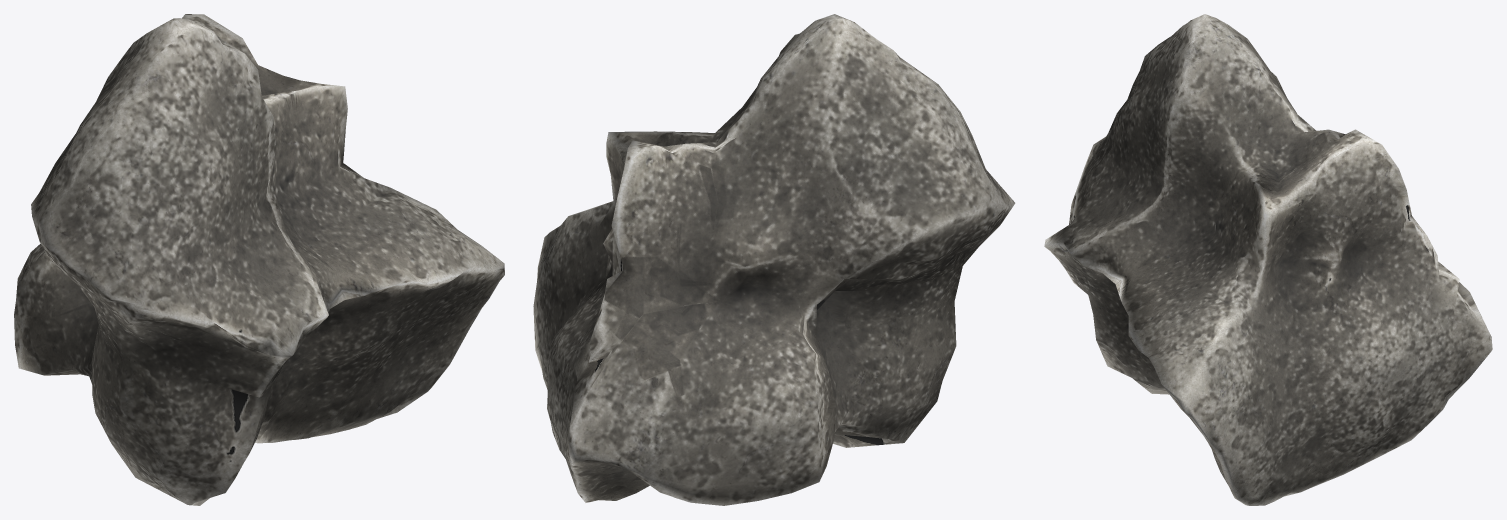
Rendered from rock2_LOD0.fbx.
The picture shows the model from 3 angles, left to right: view 1: azimuth 30°, elevation 25°; view 2: azimuth 150°, elevation 25°; view 3: azimuth 270°, elevation 25°; orthographic projection. The views are drawn at different scales.
Visible parts, largest first — view 1: rock2; view 2: rock2; view 3: rock2.
Boxes of the visible parts, <box> form: rock2: <box>14,14,504,505</box>; rock2: <box>533,14,1015,505</box>; rock2: <box>1044,14,1492,505</box>.
Size of the model in its own units: 26.42 by 25.79 by 26.44.
